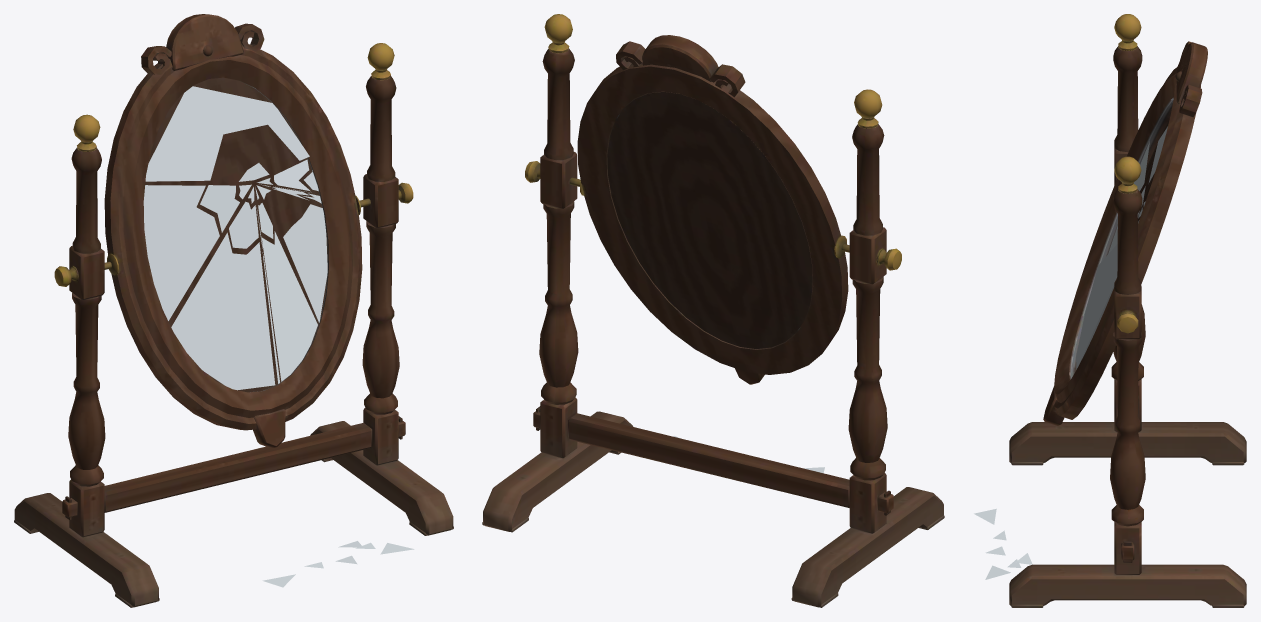
File: mirror-broken.glb
3 views of the same model, side by side, from view 1: azimuth 30°, elevation 25°; view 2: azimuth 150°, elevation 25°; view 3: azimuth 270°, elevation 25° (orthographic). The views are drawn at different scales.
Parts seen in each view (by area): view 1: mirror-broken; view 2: mirror-broken; view 3: mirror-broken.
Part boxes in pixels (x1,y1,x2,y2): mirror-broken: (14, 14, 453, 607); mirror-broken: (482, 14, 944, 607); mirror-broken: (974, 14, 1246, 607).
Size of the model in its own units: 0.888 by 1.17 by 0.5983.
Materials: 2 (1 with a texture image).
